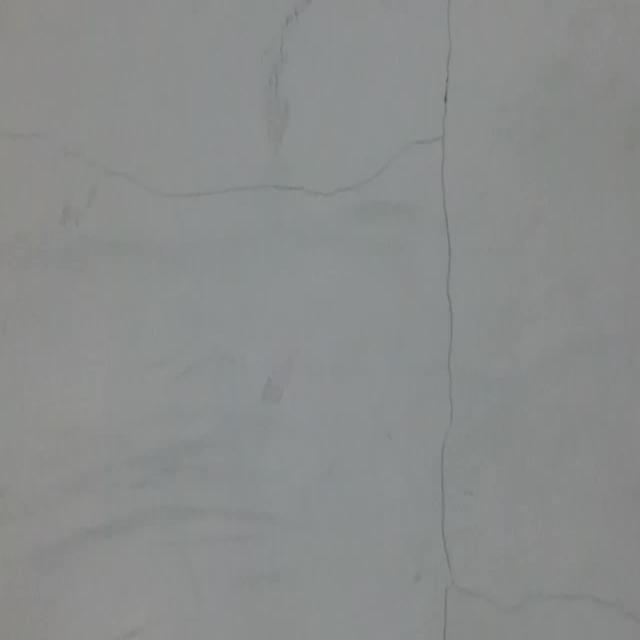Crack: (0, 151, 419, 253), (422, 0, 478, 637)
